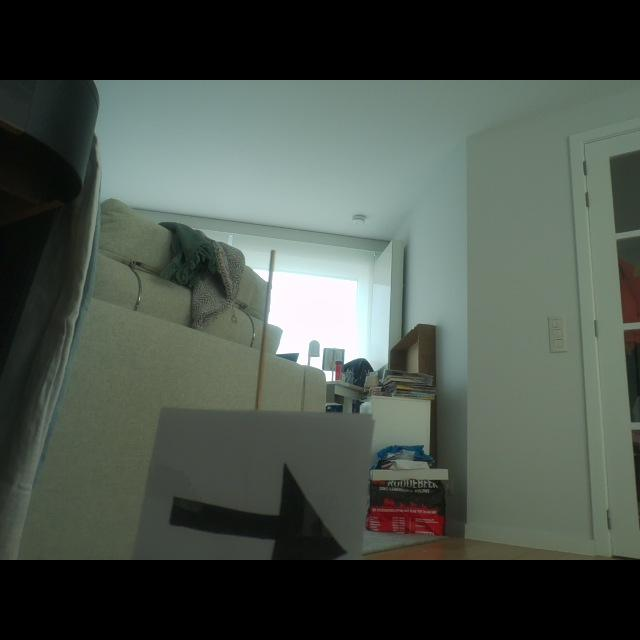jobbra_nyil: (171, 464, 345, 559)
